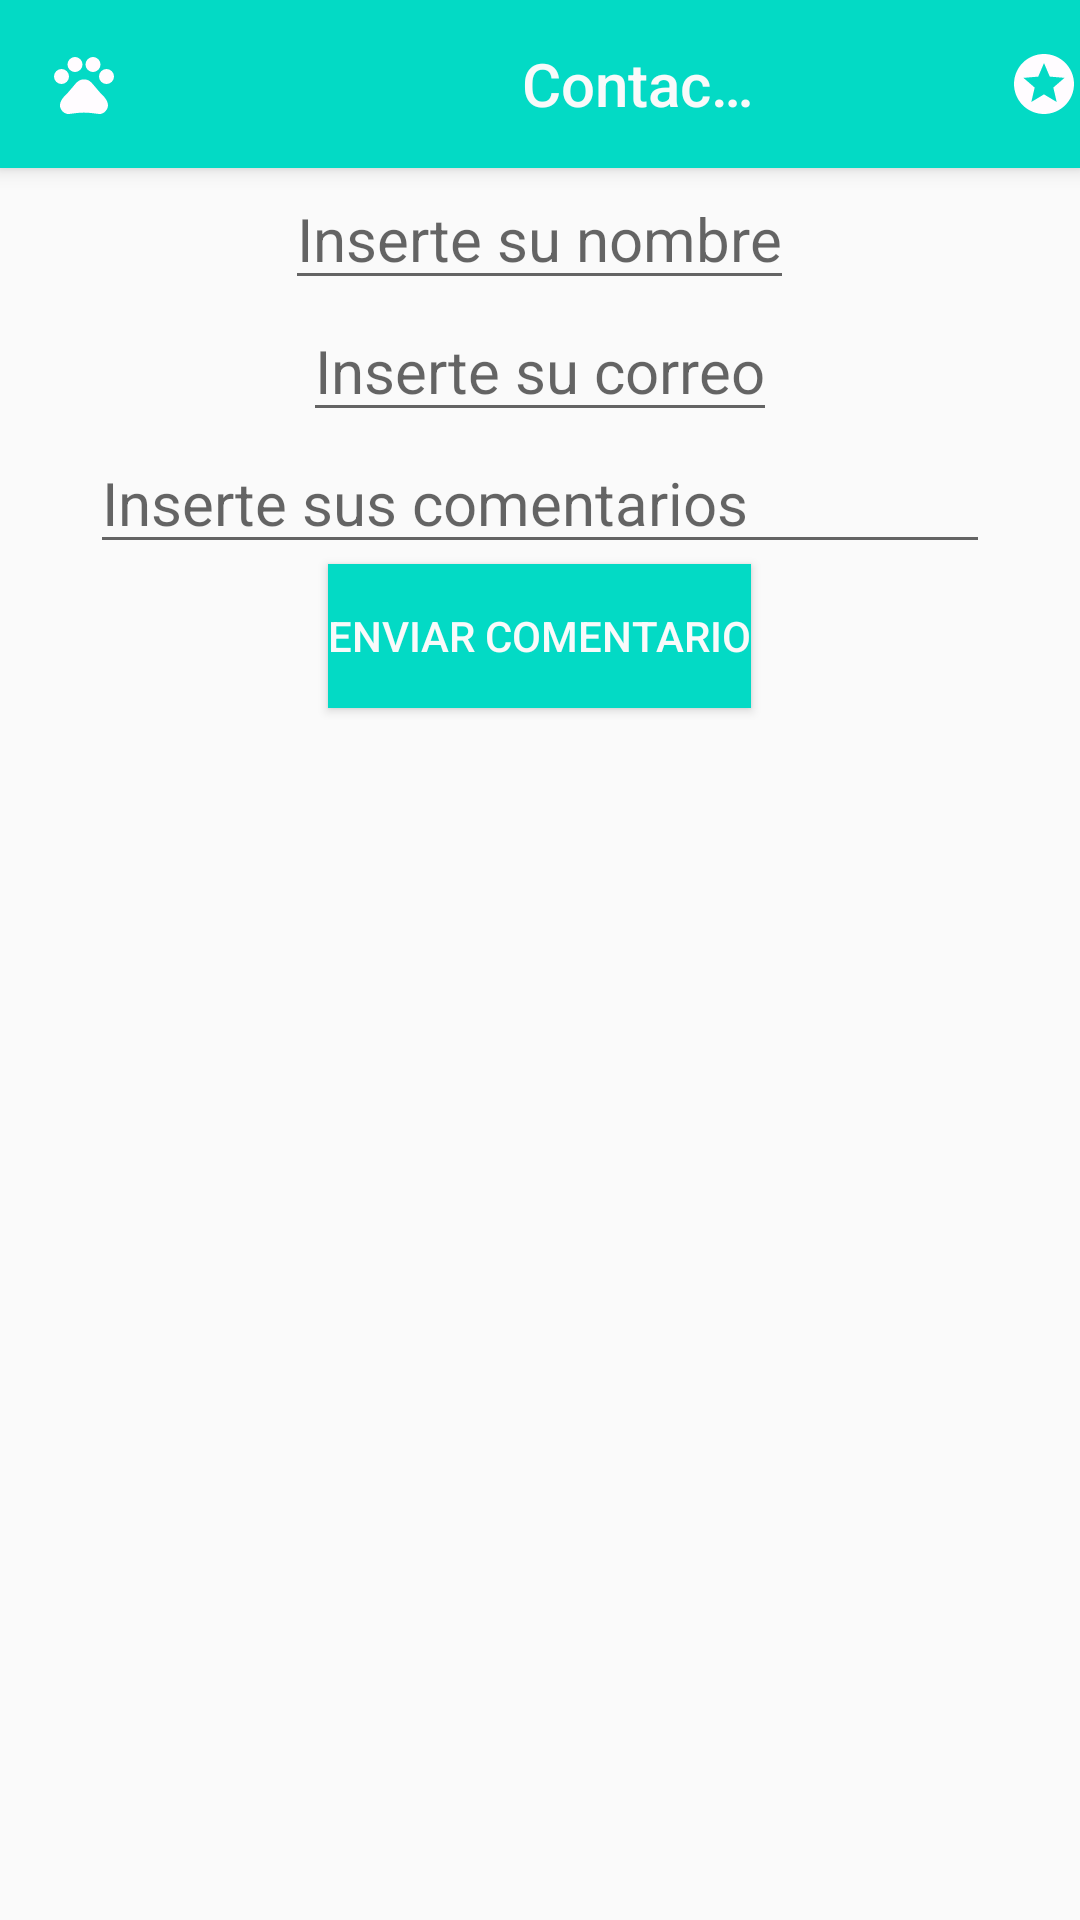

Where to tap for icons on this 1080 x 1920 app screen, as [x,y]:
stars: [1044,84]
